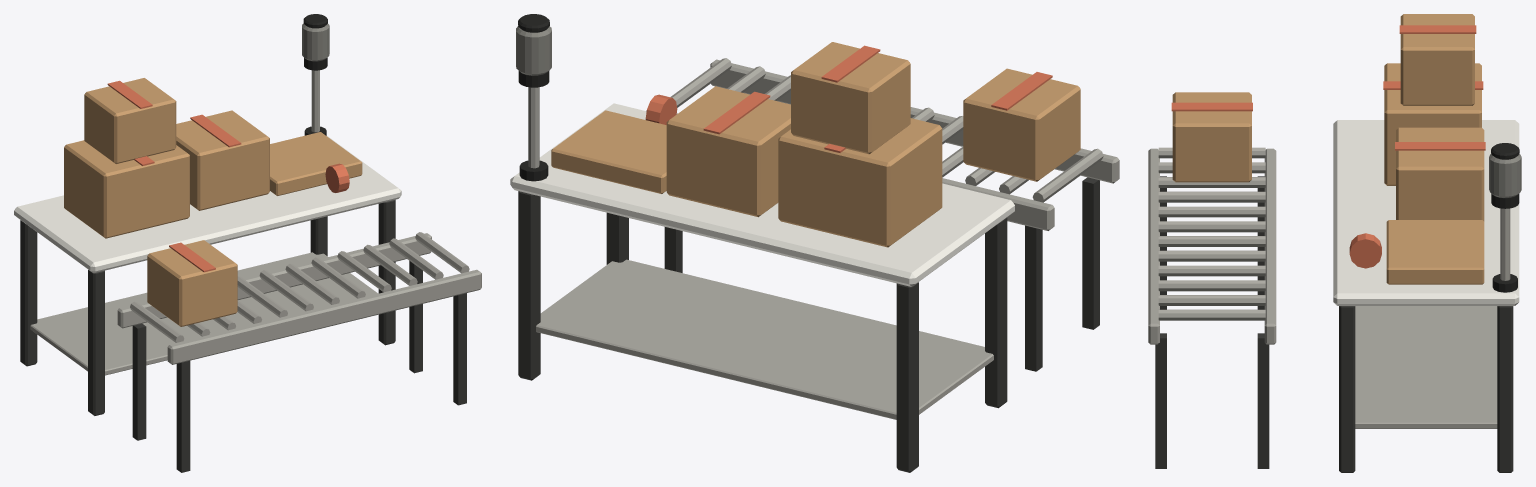
The model's file is packing_table.glb.
3 renders of one model, left to right at view 1: azimuth 30°, elevation 25°; view 2: azimuth 150°, elevation 25°; view 3: azimuth 270°, elevation 25°, orthographic. The views are drawn at different scales.
Parts seen in each view (by area): view 1: packing_table_parts, carton_parts; view 2: packing_table_parts, carton_parts; view 3: packing_table_parts, carton_parts.
Boxes of the visible parts, left/top/right/bottom form: packing_table_parts: left=14, top=14, right=481, bottom=472; carton_parts: left=147, top=240, right=237, bottom=326; packing_table_parts: left=510, top=14, right=1119, bottom=472; carton_parts: left=963, top=68, right=1080, bottom=181; packing_table_parts: left=1148, top=14, right=1521, bottom=472; carton_parts: left=1171, top=92, right=1252, bottom=182.
Bounding box in the file's own units: 1.8 × 1.52 × 1.6.
